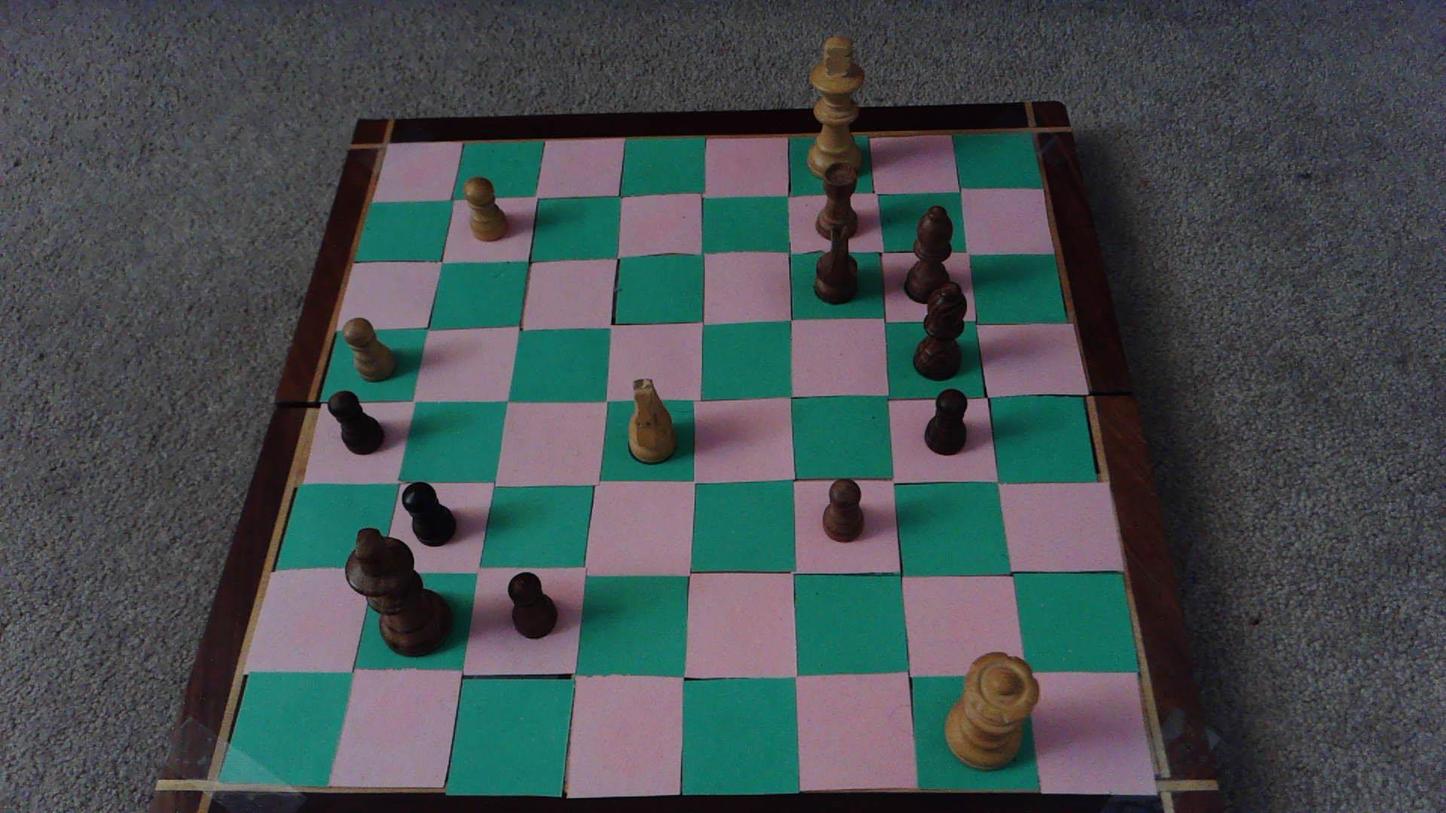dark_piece: (345, 528, 449, 656), (914, 282, 968, 379), (903, 204, 953, 304), (811, 223, 860, 304), (813, 161, 859, 238), (328, 391, 383, 454), (403, 482, 455, 546), (508, 572, 557, 638), (925, 389, 967, 454), (822, 479, 863, 541)
white_piece: (946, 653, 1038, 769), (807, 37, 863, 179), (629, 379, 676, 462), (343, 318, 394, 381), (462, 176, 508, 241)
